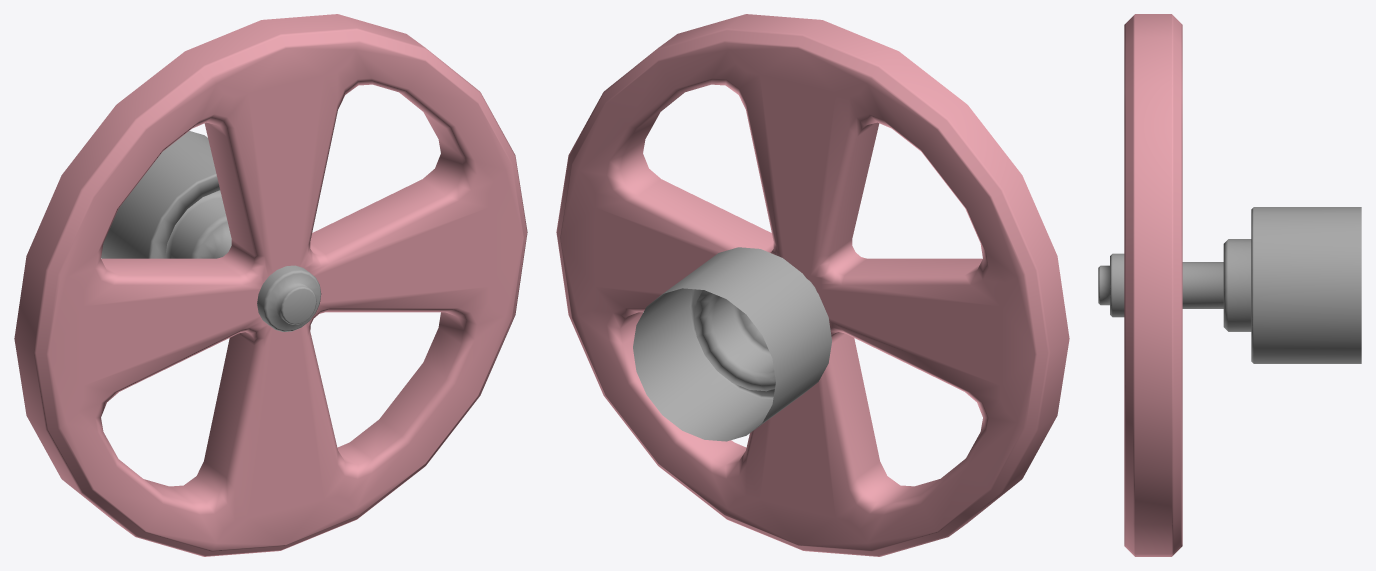
File: valve_debut.fbx
The picture shows the model from 3 angles, left to right: view 1: azimuth 30°, elevation 25°; view 2: azimuth 150°, elevation 25°; view 3: azimuth 270°, elevation 25°; orthographic projection. The views are drawn at different scales.
Visible parts, largest first — view 1: pCylinder5, pCylinder1; view 2: pCylinder5, pCylinder1; view 3: pCylinder5, pCylinder1.
Part boxes in pixels (<box>): pCylinder5: <box>14,14,527,556</box>; pCylinder1: <box>101,131,231,258</box>; pCylinder5: <box>556,14,1069,556</box>; pCylinder1: <box>633,247,831,441</box>; pCylinder5: <box>1098,14,1182,556</box>; pCylinder1: <box>1182,207,1361,363</box>.
Bounding box in the file's own units: 9.92 × 9.92 × 4.77.
